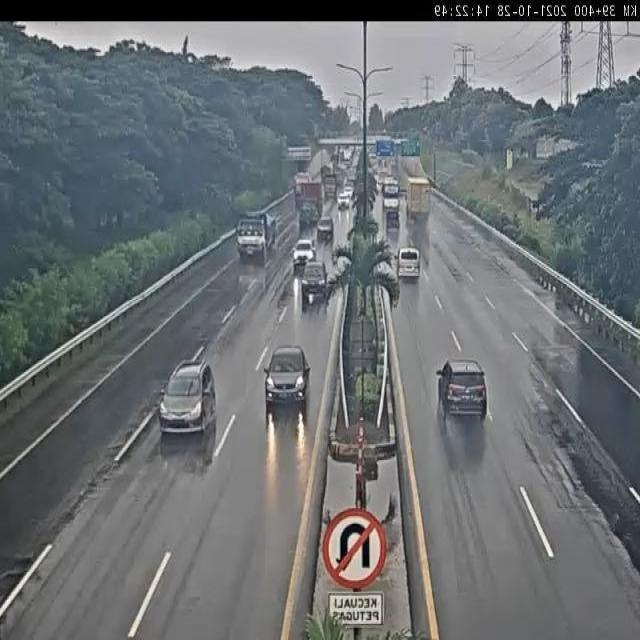Car: (435, 353, 497, 435), (158, 356, 216, 436), (263, 344, 311, 419), (300, 258, 330, 310), (396, 246, 421, 281), (293, 238, 316, 270), (317, 216, 334, 244)
Truck: (234, 208, 276, 260), (408, 174, 434, 224), (381, 172, 403, 219)
